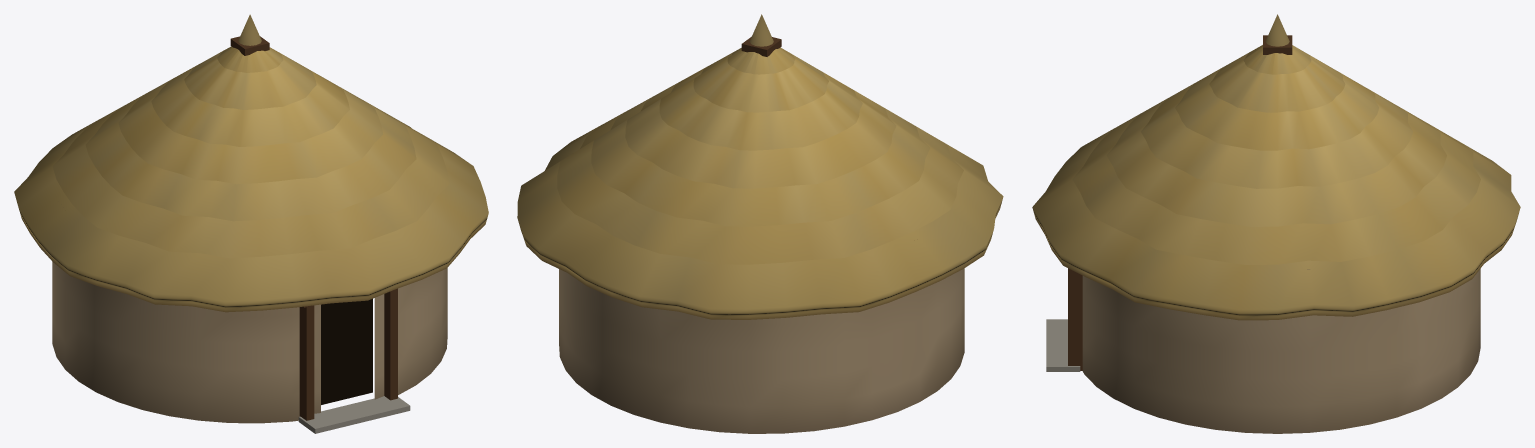
File: roundhouse-wattle-4.glb
The picture shows the model from 3 angles, left to right: view 1: azimuth 30°, elevation 25°; view 2: azimuth 150°, elevation 25°; view 3: azimuth 270°, elevation 25°; orthographic projection. The views are drawn at different scales.
Visible parts, largest first — view 1: roundhouse-wattle-4; view 2: roundhouse-wattle-4; view 3: roundhouse-wattle-4.
Part boxes in pixels (x1,y1,x2,y2): roundhouse-wattle-4: [14, 14, 488, 433]; roundhouse-wattle-4: [517, 14, 1003, 433]; roundhouse-wattle-4: [1032, 14, 1520, 433].
Bounding box in the file's own units: 4.26 × 3.27 × 4.33.
